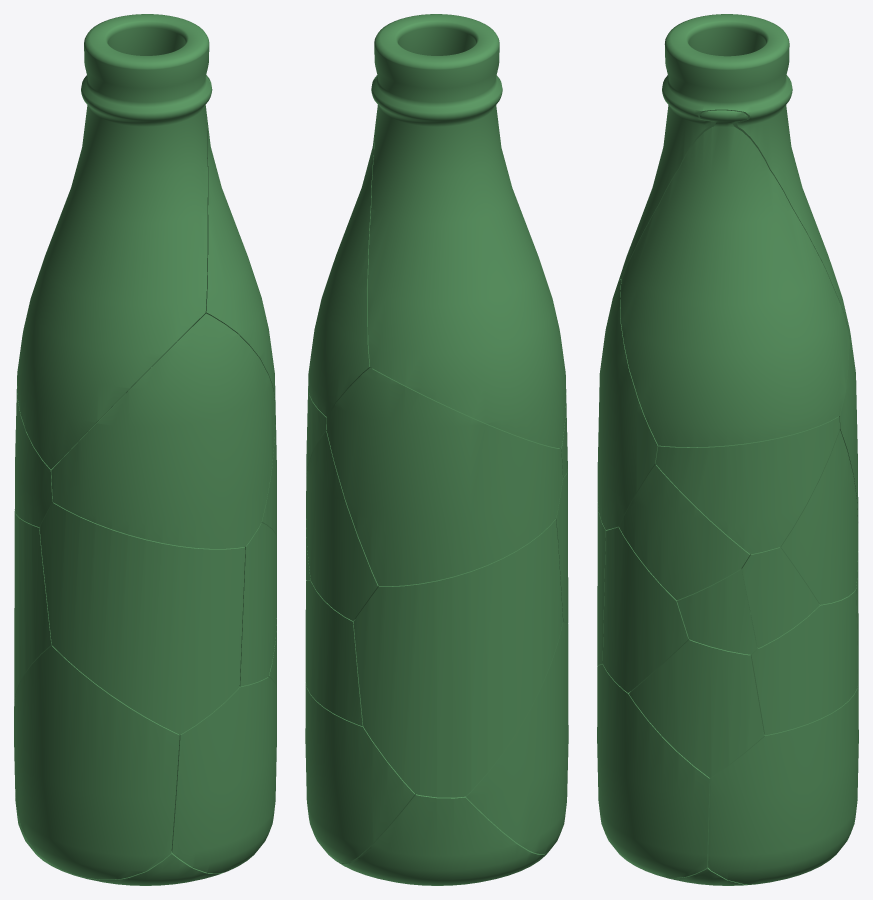
Rendered from bottle_swingtop_shards.glb.
3 renders of one model, left to right at view 1: azimuth 30°, elevation 25°; view 2: azimuth 150°, elevation 25°; view 3: azimuth 270°, elevation 25°, orthographic.
Parts seen in each view (by area): view 1: Shard_00, Shard_04, Shard_07, Shard_05, Shard_08, Shard_02, Shard_13, Shard_03, Shard_06, Shard_01, Shard_15; view 2: Shard_00, Shard_03, Shard_06, Shard_05, Shard_09, Shard_01, Shard_02, Shard_11, Shard_10, Shard_07, Shard_12; view 3: Shard_02, Shard_09, Shard_00, Shard_08, Shard_12, Shard_14, Shard_10, Shard_15, Shard_13, Shard_04, Shard_11, Shard_16 (+4 smaller).
Boxes of the visible parts, bbox=[...] form: Shard_00: bbox=[17, 14, 212, 469]; Shard_04: bbox=[51, 313, 275, 548]; Shard_07: bbox=[39, 502, 245, 734]; Shard_05: bbox=[14, 645, 179, 879]; Shard_08: bbox=[171, 677, 276, 873]; Shard_02: bbox=[177, 75, 275, 400]; Shard_13: bbox=[239, 522, 276, 686]; Shard_03: bbox=[14, 511, 51, 702]; Shard_06: bbox=[14, 386, 125, 527]; Shard_01: bbox=[15, 786, 223, 885]; Shard_15: bbox=[261, 424, 276, 538]; Shard_00: bbox=[368, 14, 566, 448]; Shard_03: bbox=[353, 519, 562, 797]; Shard_06: bbox=[326, 368, 562, 586]; Shard_05: bbox=[466, 622, 568, 853]; Shard_09: bbox=[305, 682, 414, 863]; Shard_01: bbox=[339, 794, 548, 885]; Shard_02: bbox=[308, 75, 377, 416]; Shard_11: bbox=[306, 431, 378, 620]; Shard_10: bbox=[305, 580, 363, 726]; Shard_07: bbox=[556, 469, 568, 623]; Shard_12: bbox=[306, 388, 326, 477]; Shard_02: bbox=[620, 110, 848, 447]; Shard_09: bbox=[708, 686, 858, 884]; Shard_00: bbox=[618, 14, 848, 327]; Shard_08: bbox=[597, 664, 710, 878]; Shard_12: bbox=[655, 416, 839, 554]; Shard_14: bbox=[629, 639, 764, 777]; Shard_10: bbox=[750, 589, 857, 735]; Shard_15: bbox=[619, 464, 749, 600]; Shard_13: bbox=[602, 527, 688, 692]; Shard_04: bbox=[597, 279, 658, 529]; Shard_11: bbox=[780, 430, 858, 604]; Shard_16: bbox=[741, 547, 819, 648].
Size of the model in its own units: 0.0691 by 0.2321 by 0.0687.
